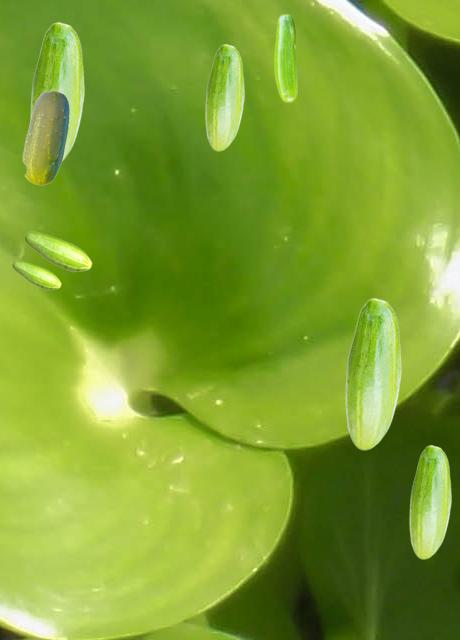cucumber: (345, 298, 400, 449), (30, 22, 83, 160), (409, 445, 450, 558), (22, 90, 68, 184), (205, 44, 243, 150), (24, 231, 91, 271), (274, 14, 296, 101), (12, 260, 60, 289)
